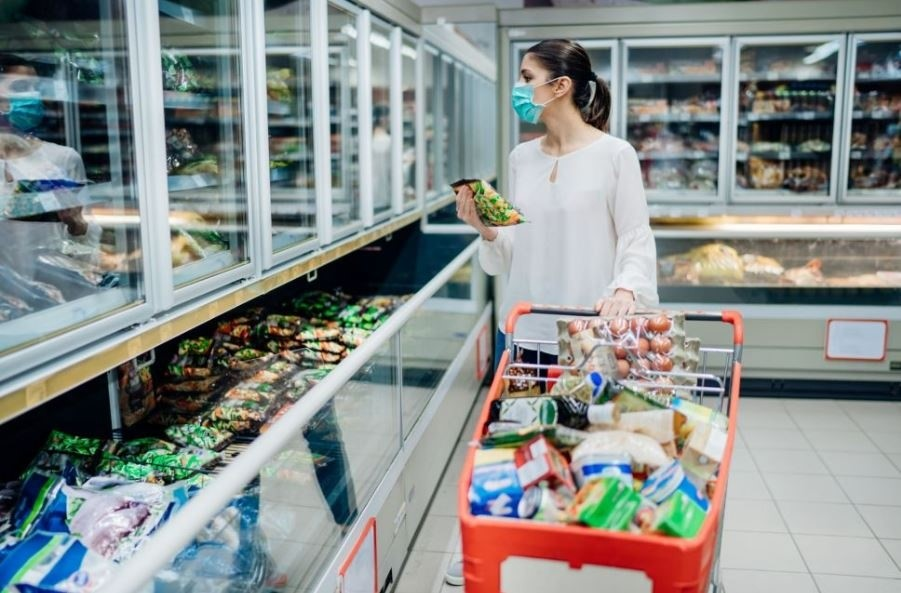face_with_mask: (506, 37, 594, 125)
